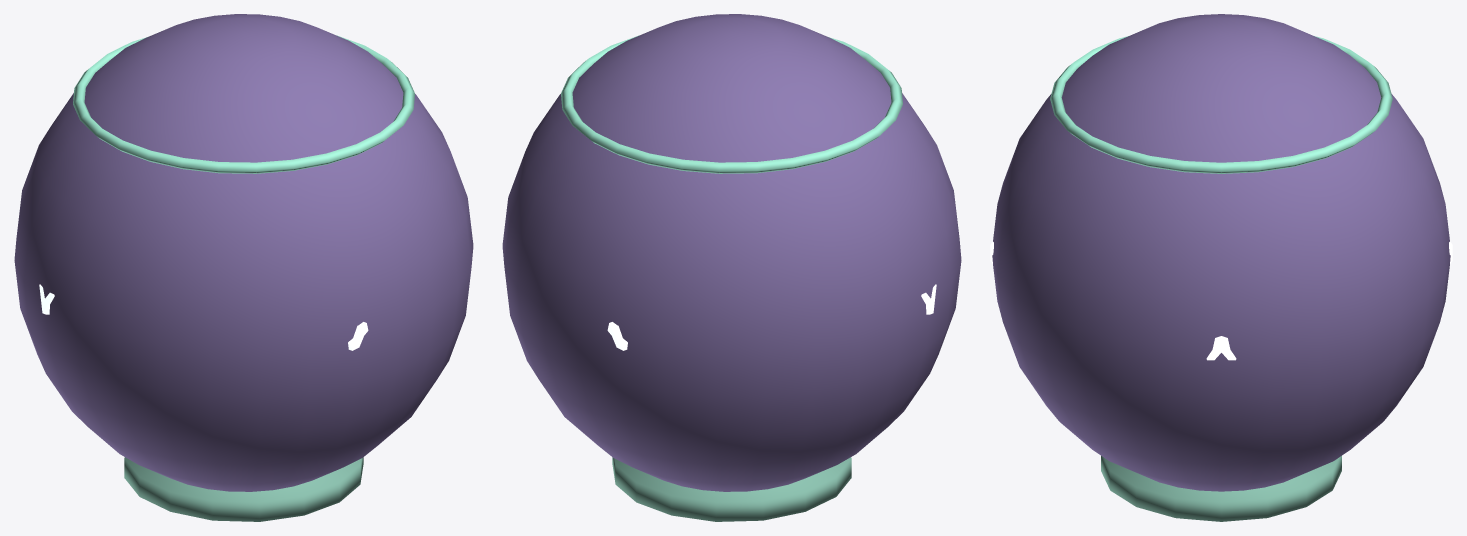
File: egg_enchanted_06.glb
3 views of the same model, side by side, from view 1: azimuth 30°, elevation 25°; view 2: azimuth 150°, elevation 25°; view 3: azimuth 270°, elevation 25° (orthographic).
Visible parts, largest first — view 1: ball; view 2: ball; view 3: ball.
Boxes of the visible parts, x1=… form: ball: x1=14, y1=14, x2=473, y2=521; ball: x1=502, y1=14, x2=961, y2=521; ball: x1=990, y1=14, x2=1452, y2=521.
Size of the model in its own units: 0.8494 by 0.88 by 0.8451.
